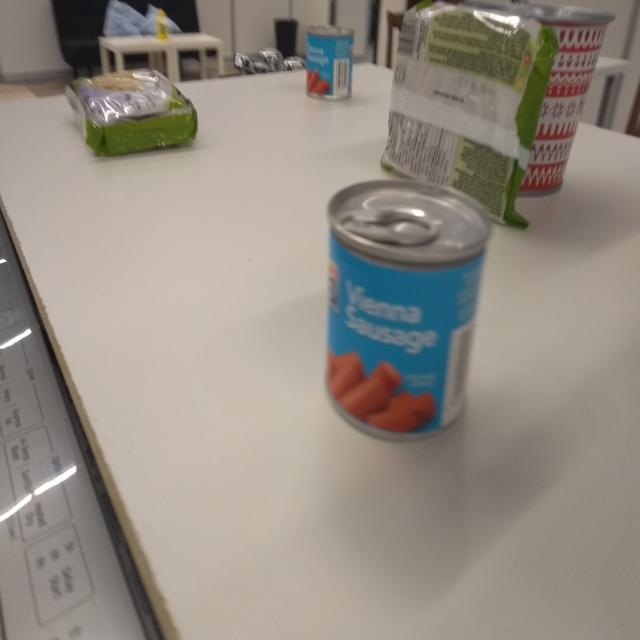noodles: (63, 66, 204, 165)
sausages: (319, 174, 496, 453), (303, 18, 358, 103)
